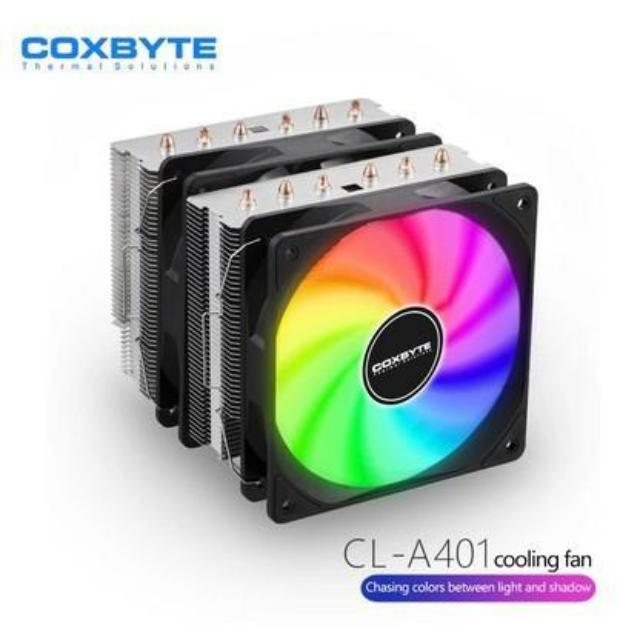CPU_Fan: (106, 98, 528, 524)
